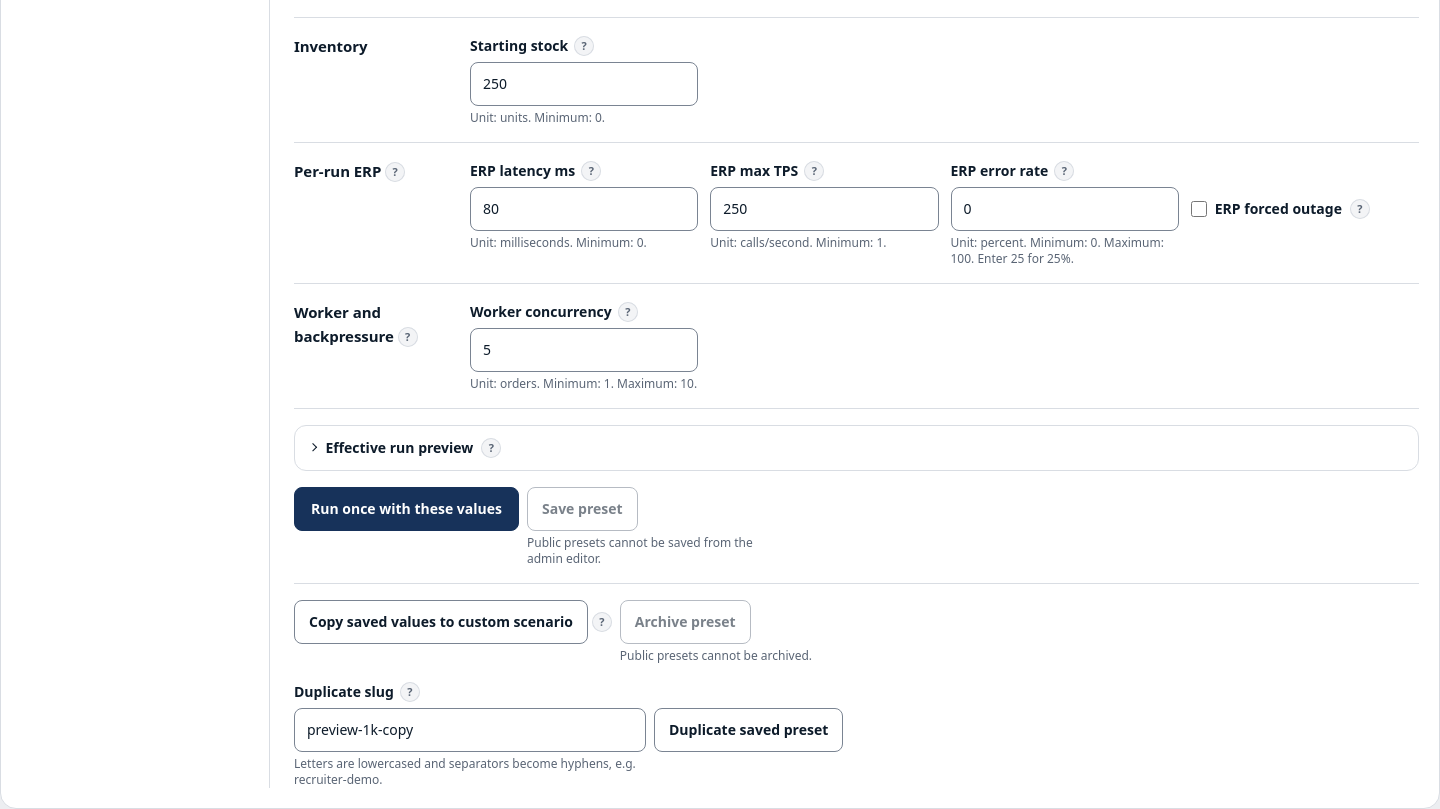
Test: admin admission surface › shows authoritative over_ceiling start rejection
(page scrolled)
Step 1. Click the button "Run once with these values" → [406, 508], box [294,486,519,530]
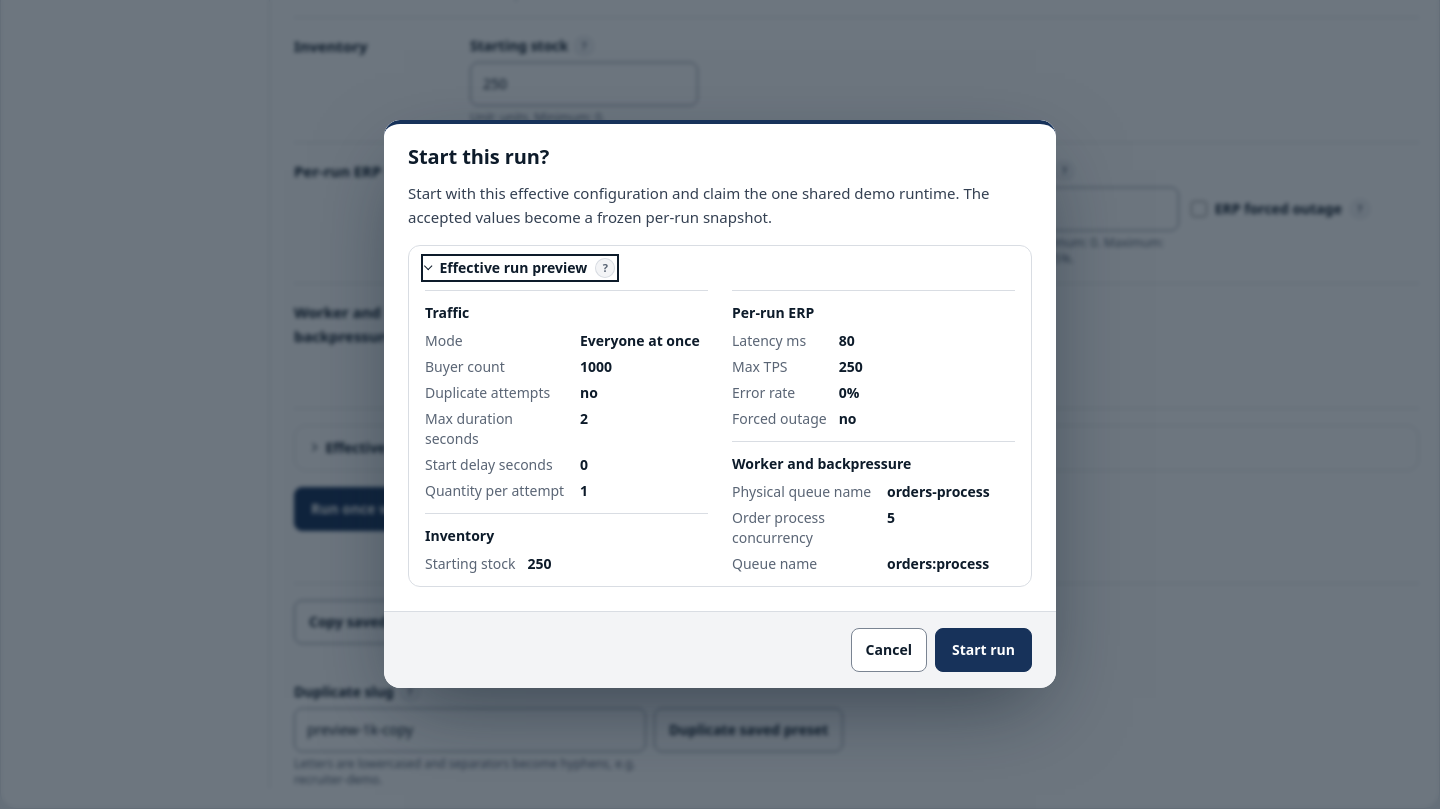
Step 2. Click the button "Start run" → [983, 650], box [935,628,1032,672]
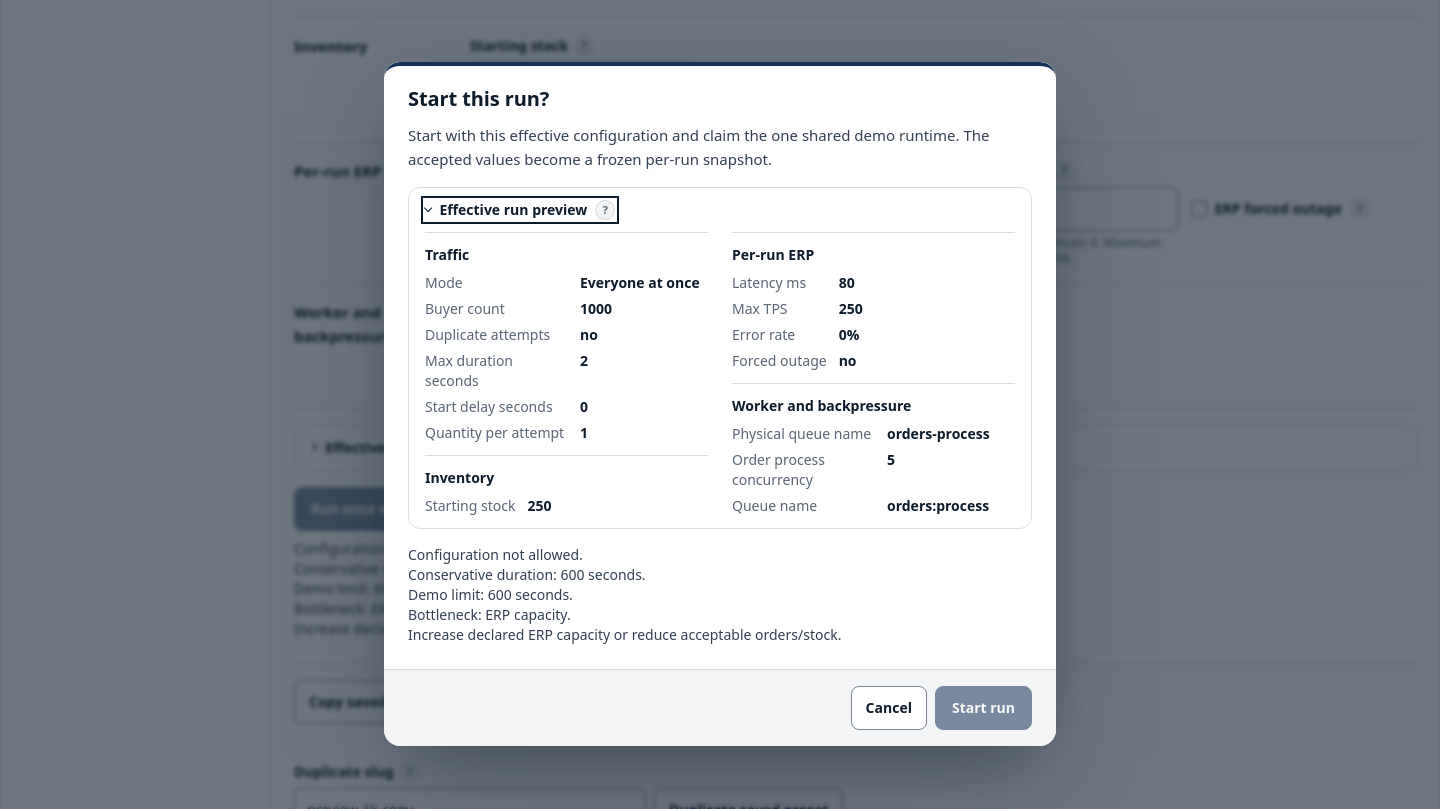
Check: the text "Configuration not allowed." below "Unit: orders. Minimum: 1. Maximum: 10." is shown, box [294,538,469,558]
Check: the button "Run once with these values" is disabled, box [294,486,519,530]
Check: the button "Start run" is disabled, box [935,686,1032,730]
